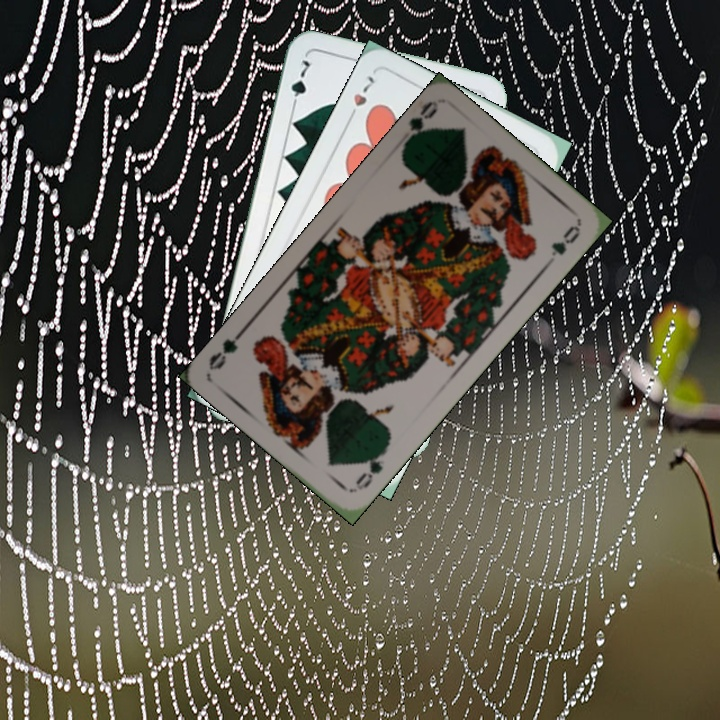G7: (287, 56, 315, 112)
GO: (398, 98, 441, 152), (350, 443, 390, 493)
H7: (344, 71, 378, 124)
